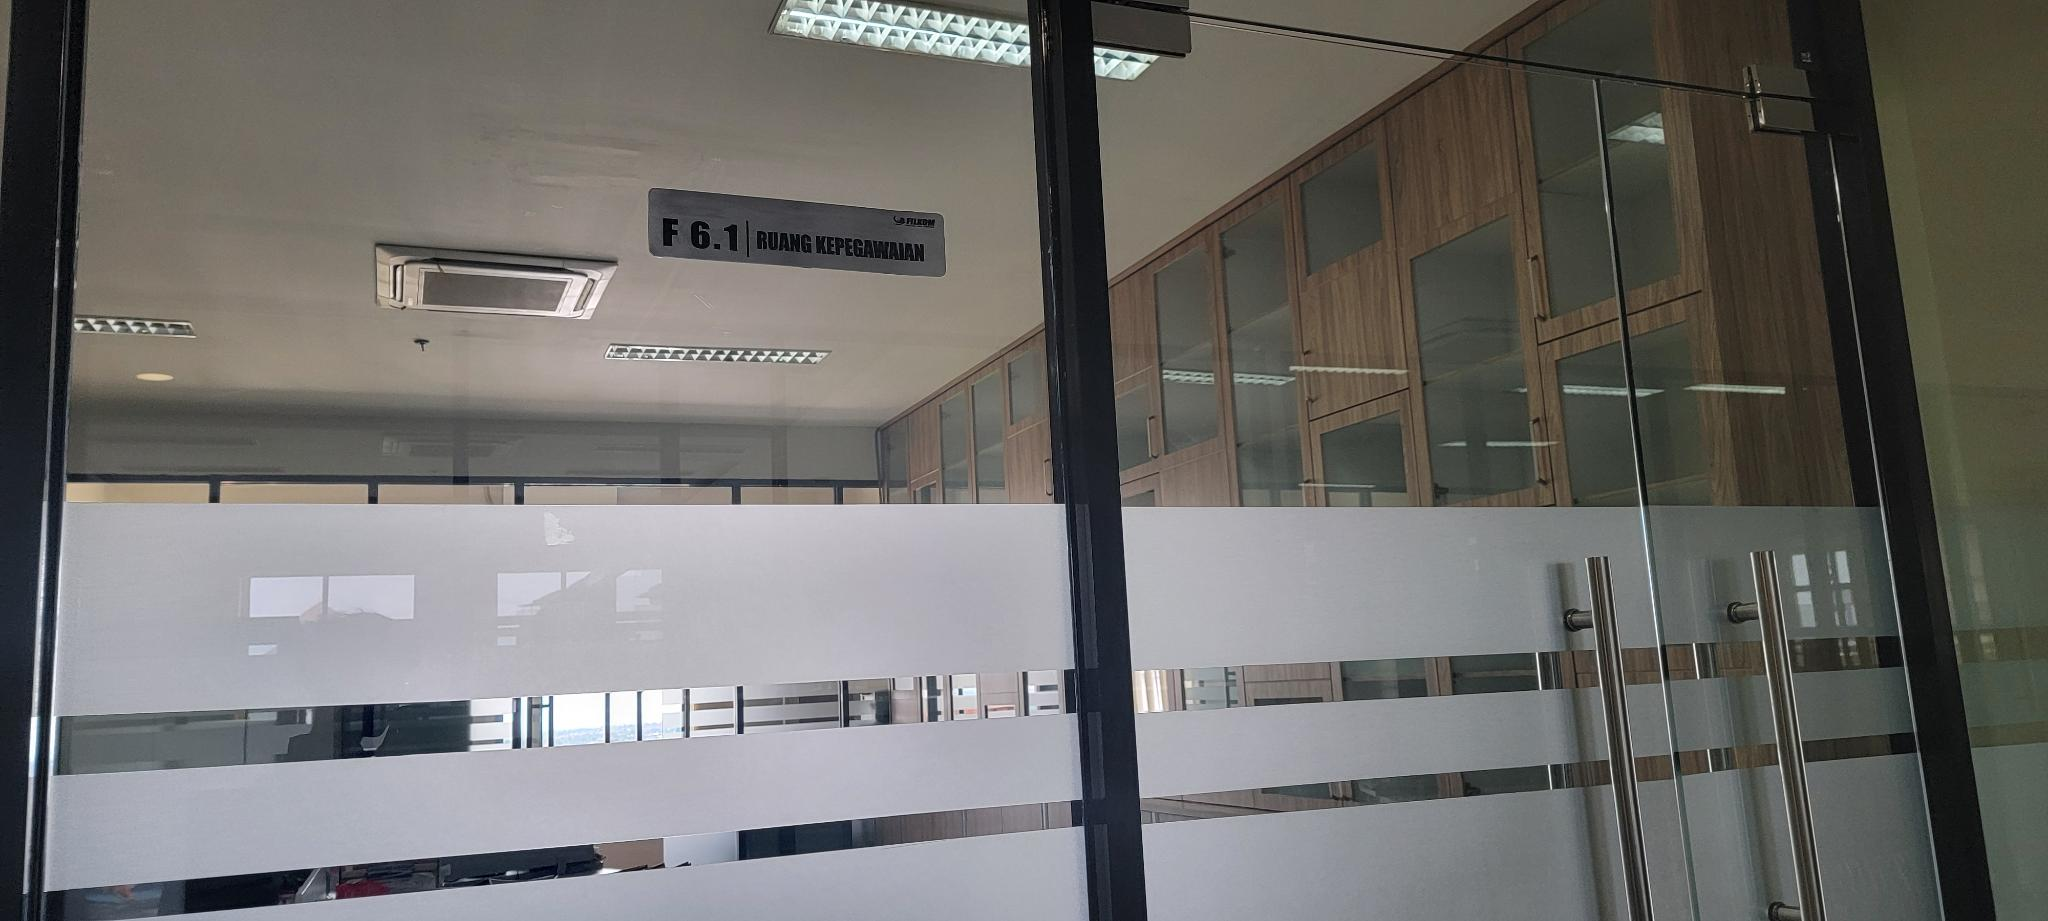plate: (648, 186, 947, 278)
